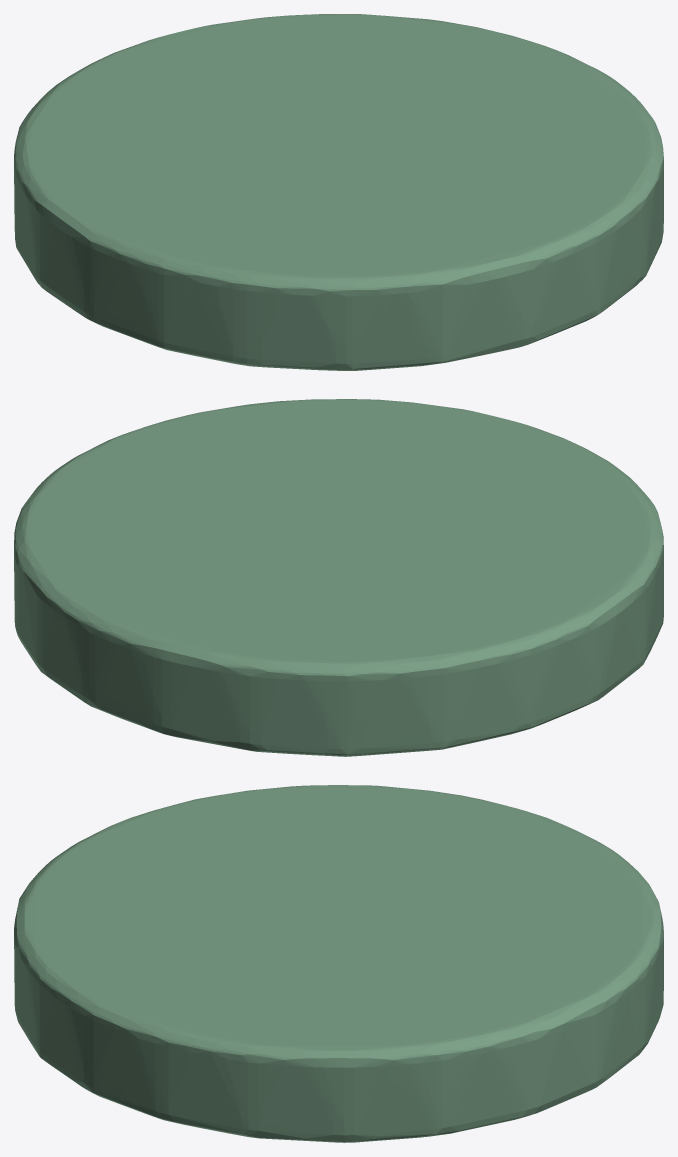
File: left_hip_pitch_link_part_0.obj
3 renders of one model, top to bottom at view 1: azimuth 30°, elevation 25°; view 2: azimuth 150°, elevation 25°; view 3: azimuth 270°, elevation 25°, orthographic.
Size of the model in its own units: 0.1108 by 0.0175 by 0.1107.
